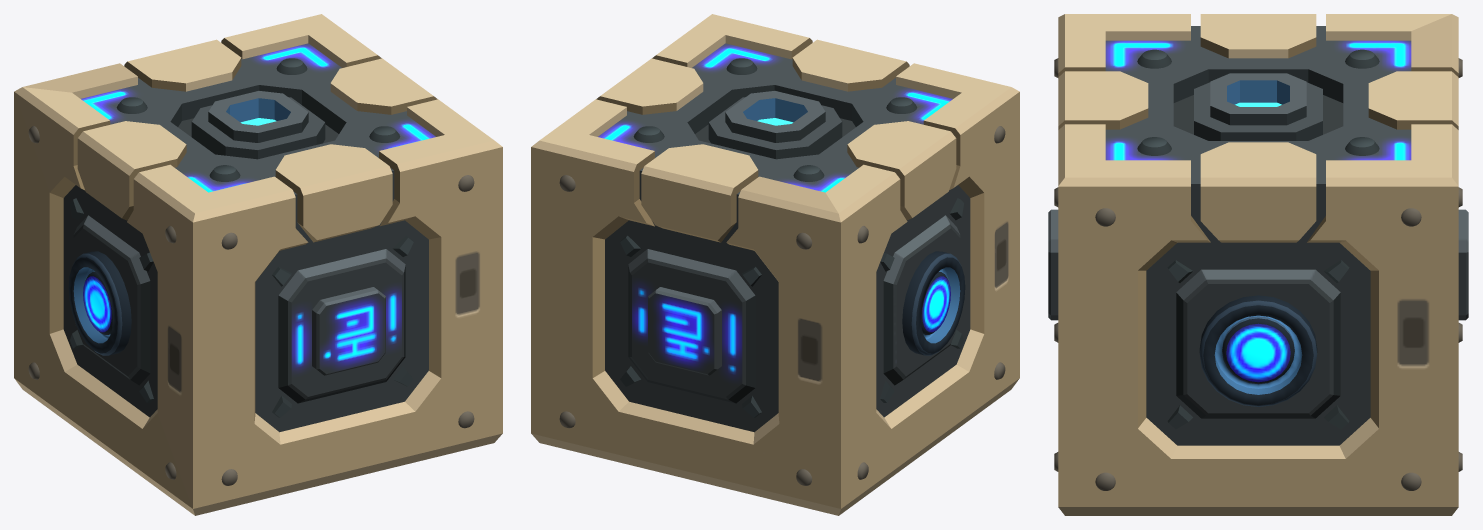
Rendered from Scifi_LootBox_07.fbx.
3 views of the same model, side by side, from view 1: azimuth 30°, elevation 25°; view 2: azimuth 150°, elevation 25°; view 3: azimuth 270°, elevation 25° (orthographic). The views are drawn at different scales.
Parts seen in each view (by area): view 1: Scifi_LootBox_07; view 2: Scifi_LootBox_07; view 3: Scifi_LootBox_07.
Boxes of the visible parts, <box> form: Scifi_LootBox_07: <box>14,14,502,515</box>; Scifi_LootBox_07: <box>531,14,1019,515</box>; Scifi_LootBox_07: <box>1048,14,1468,515</box>.
Bounding box in the file's own units: 242 × 213 × 238.
